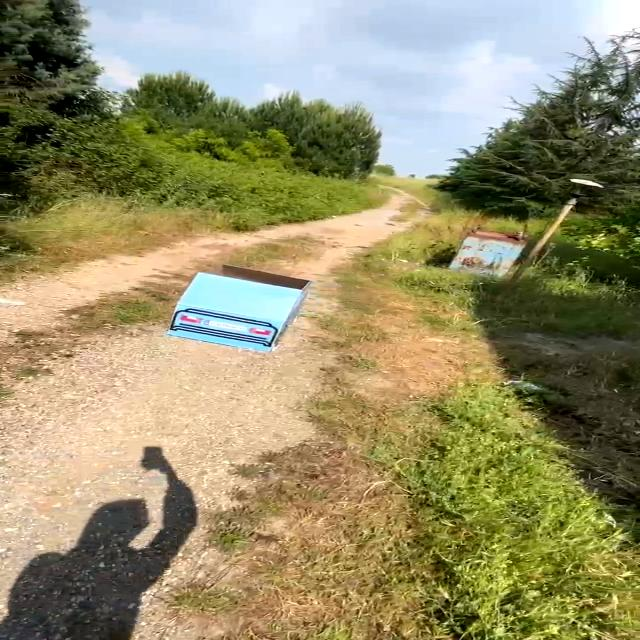blue_car: (144, 252, 320, 359)
